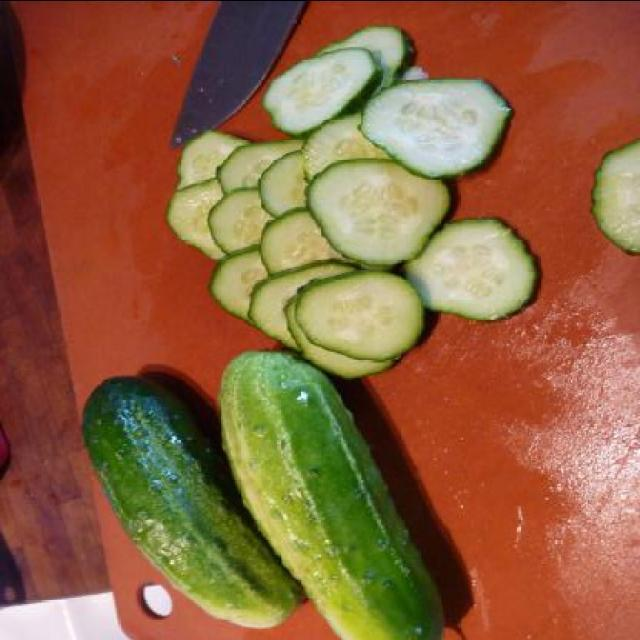Cucumber: (164, 24, 540, 378), (218, 346, 440, 640), (78, 373, 300, 630), (348, 63, 526, 172), (592, 135, 638, 257)
